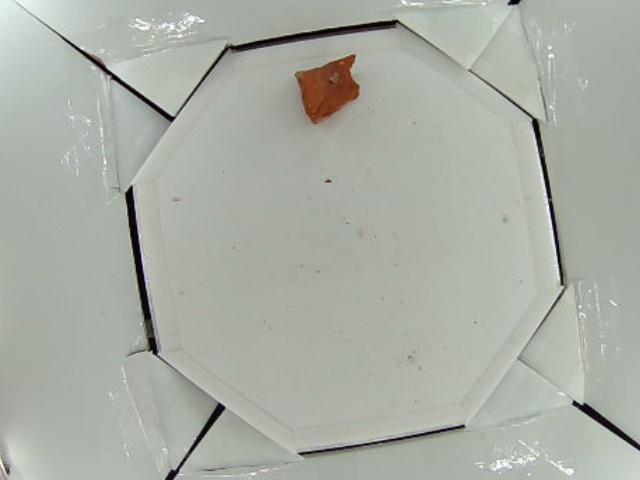Brisk: (295, 54, 360, 122)
